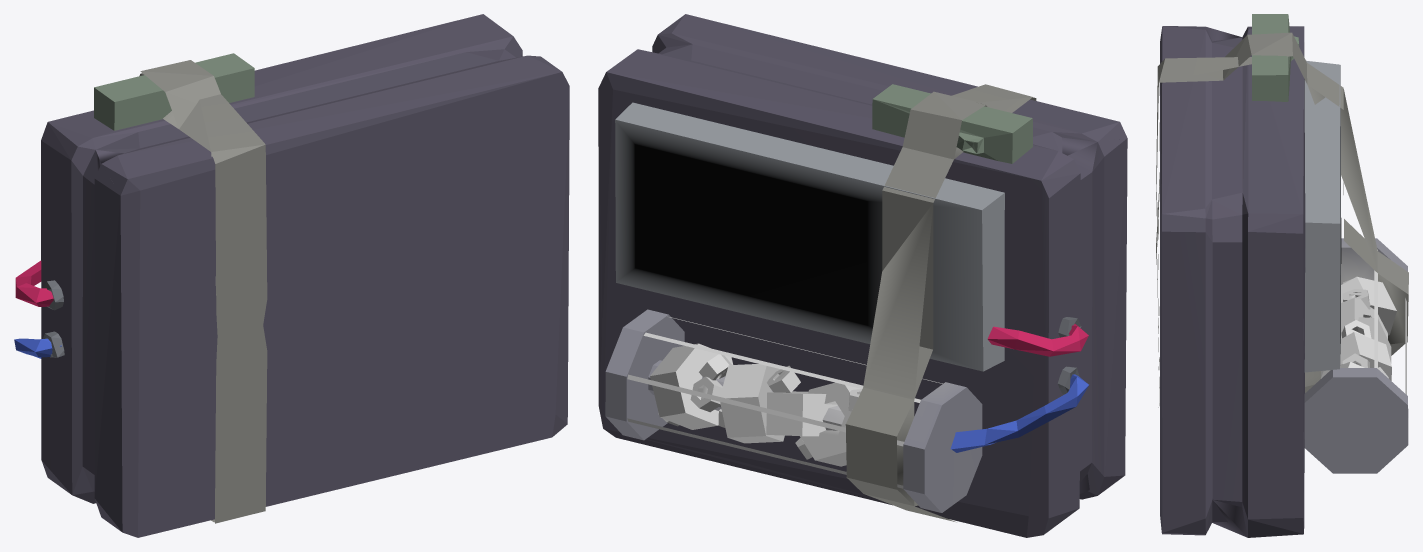
The model's file is item_timebomb.glb.
3 views of the same model, side by side, from view 1: azimuth 30°, elevation 25°; view 2: azimuth 150°, elevation 25°; view 3: azimuth 270°, elevation 25° (orthographic). The views are drawn at different scales.
Visible parts, largest first — view 1: TimeBomb; view 2: TimeBomb; view 3: TimeBomb.
Part boxes in pixels (<box>): TimeBomb: <box>14,14,569,537</box>; TimeBomb: <box>598,14,1127,537</box>; TimeBomb: <box>1156,14,1408,537</box>.
Size of the model in its own units: 0.4303 by 0.3442 by 0.2197.
